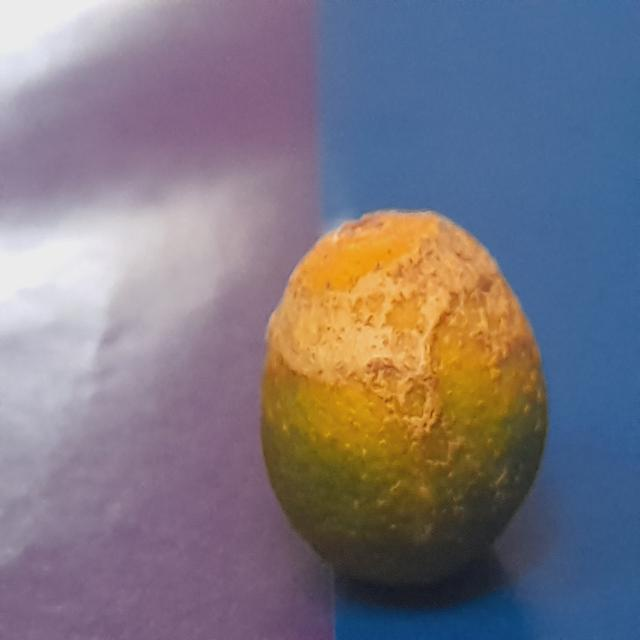thrips: (261, 198, 550, 584)
